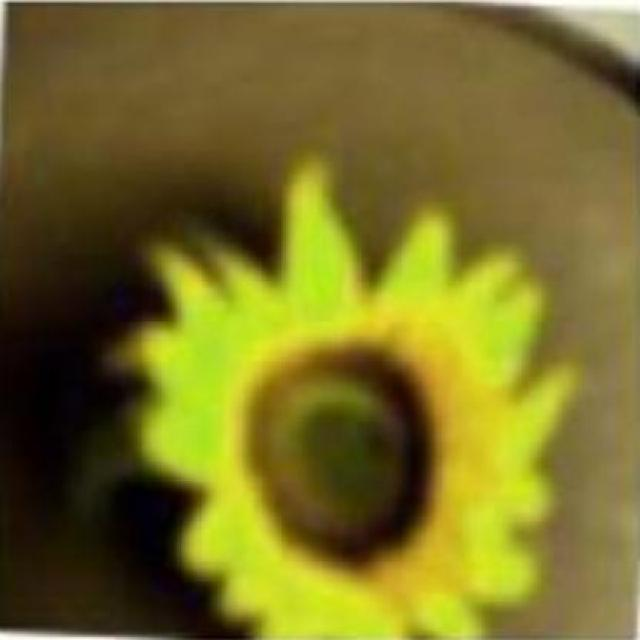sunflower: (119, 187, 562, 636)
